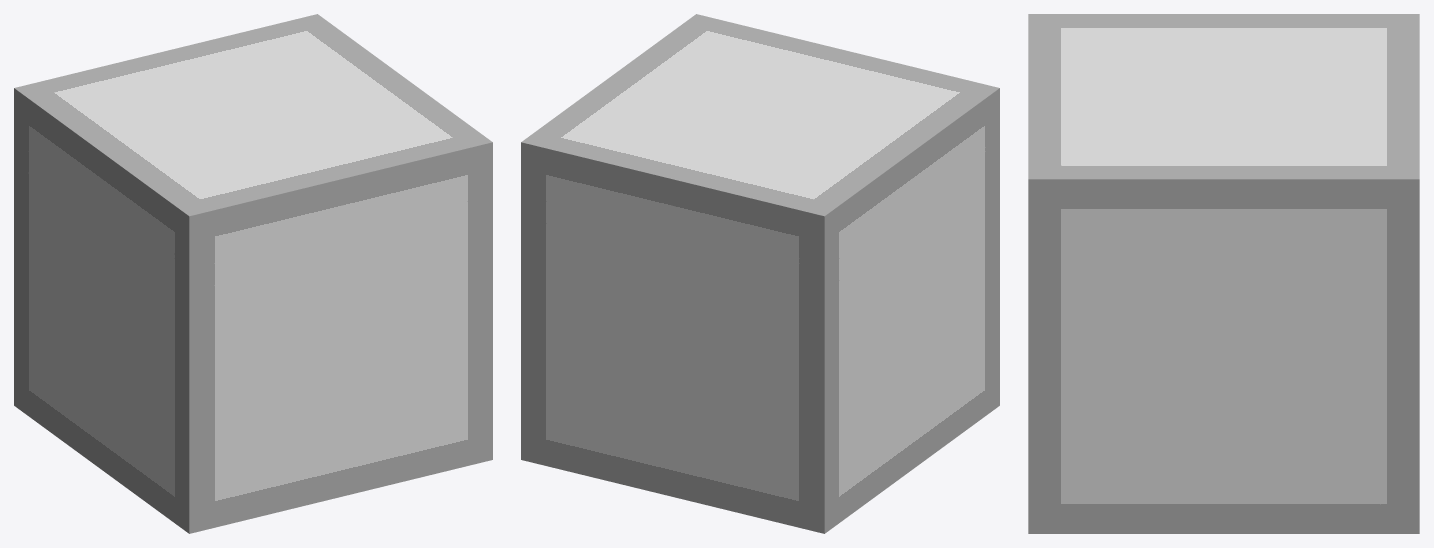
The model's file is block_ice.fbx.
3 views of the same model, side by side, from view 1: azimuth 30°, elevation 25°; view 2: azimuth 150°, elevation 25°; view 3: azimuth 270°, elevation 25° (orthographic). The views are drawn at different scales.
Parts seen in each view (by area): view 1: block_ice_bottom, block_ice_top; view 2: block_ice_bottom, block_ice_top; view 3: block_ice_bottom, block_ice_top.
Boxes of the visible parts, x1,y1,x2,y2 form: block_ice_bottom: [14, 141, 492, 533]; block_ice_top: [14, 14, 492, 269]; block_ice_bottom: [521, 141, 999, 533]; block_ice_top: [521, 14, 999, 269]; block_ice_bottom: [1028, 238, 1419, 533]; block_ice_top: [1028, 14, 1419, 238].
Bounding box in the file's own units: 12 × 12 × 12.
